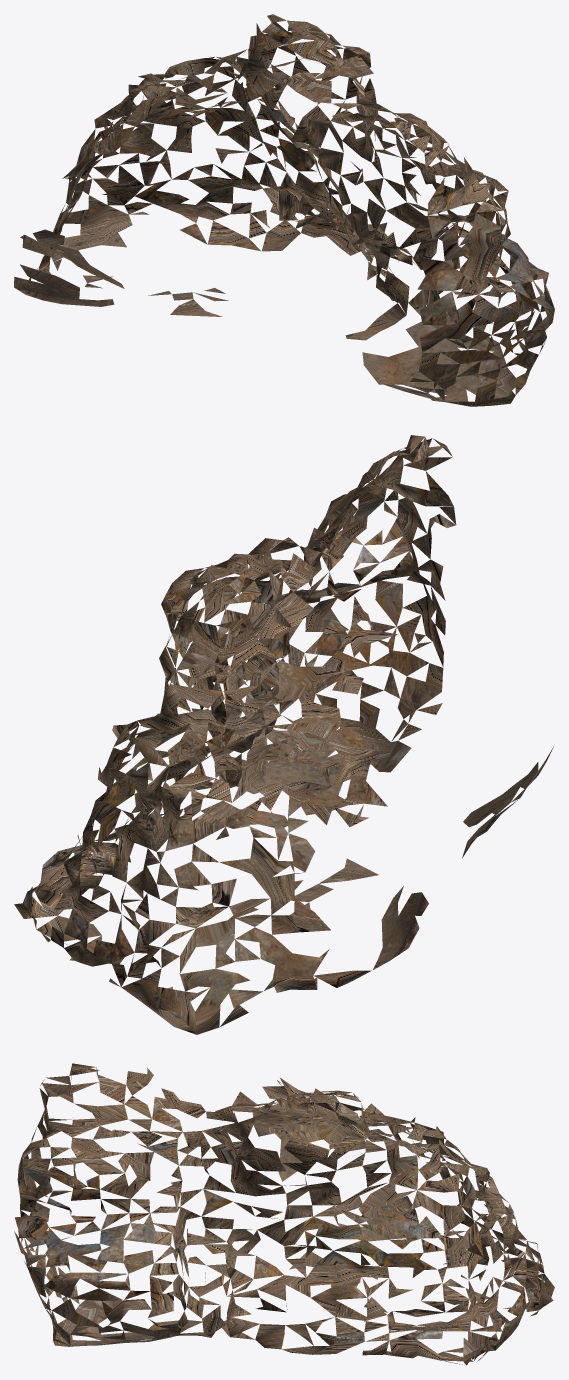
Rendered from boulder_01.glb.
3 renders of one model, top to bottom at view 1: azimuth 30°, elevation 25°; view 2: azimuth 150°, elevation 25°; view 3: azimuth 270°, elevation 25°, orthographic. The views are drawn at different scales.
Visible parts, largest first — view 1: boulder_01; view 2: boulder_01; view 3: boulder_01.
Boxes of the visible parts, x1=… form: boulder_01: x1=14, y1=14, x2=554, y2=406; boulder_01: x1=14, y1=435, x2=553, y2=1034; boulder_01: x1=14, y1=1063, x2=554, y2=1365.
Bounding box in the file's own units: 1.24 × 0.9686 × 1.78.
Materials: 1 (1 with a texture image).
